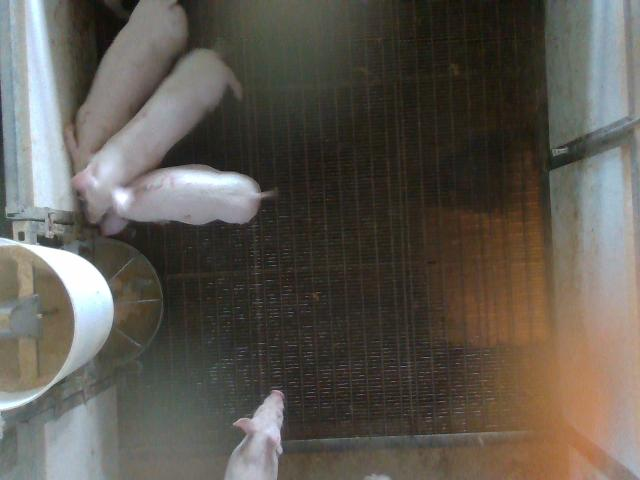pig-3: (99, 165, 276, 235)
